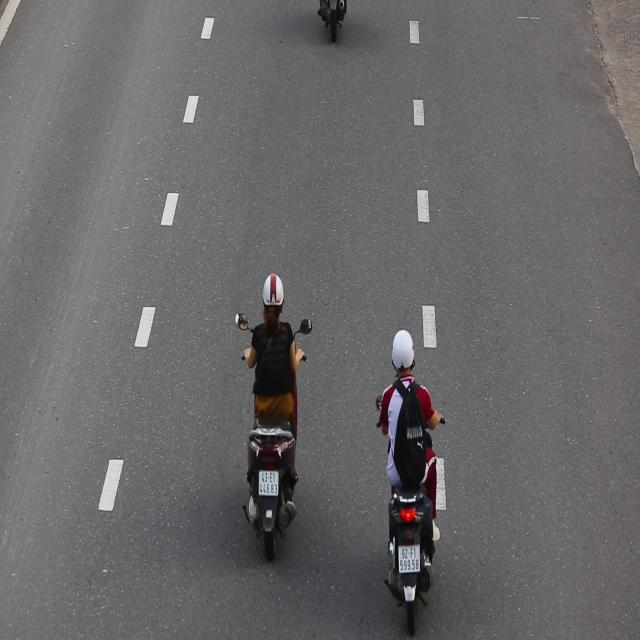motorbike: (226, 245, 319, 562), (372, 305, 451, 634)
